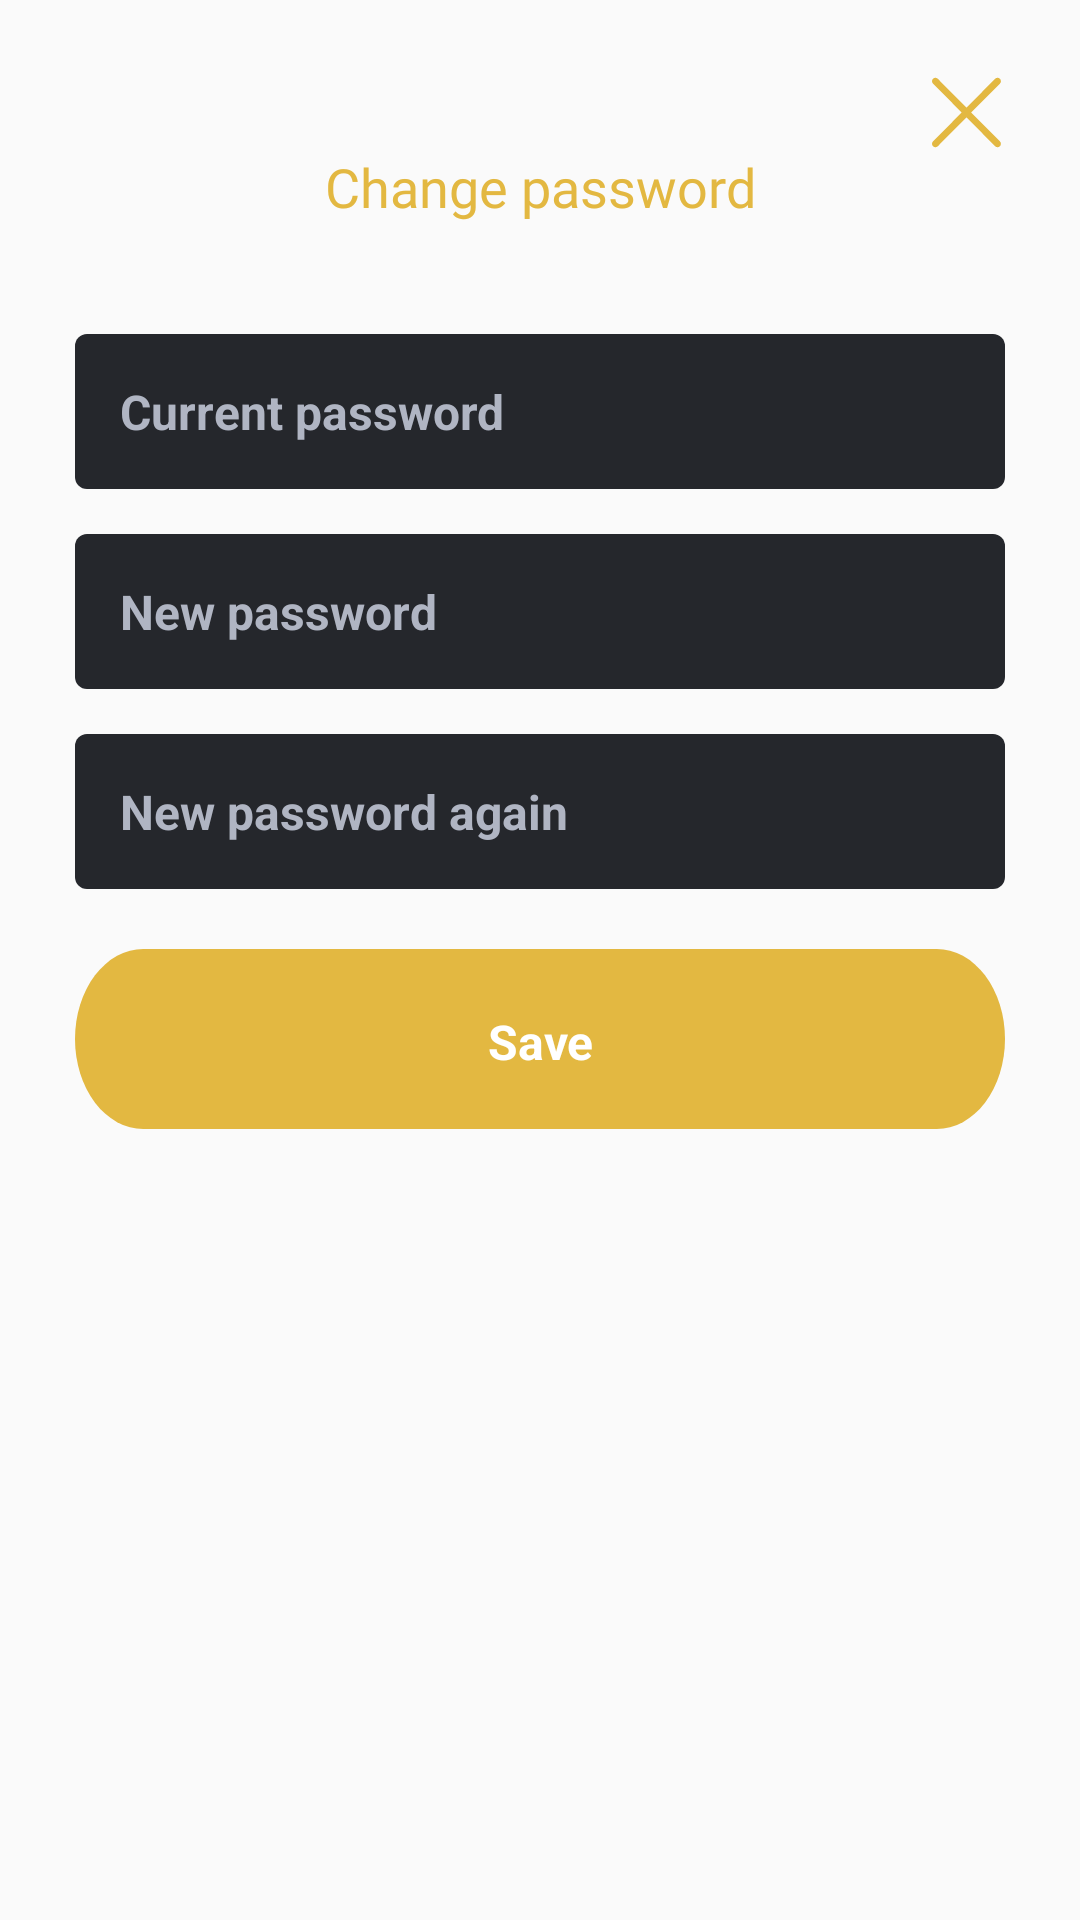

Where icons sit on this 1080w x 1920h app screen, as bbox(x1, y1, x2, y2):
close: bbox(932, 77, 1001, 148)
